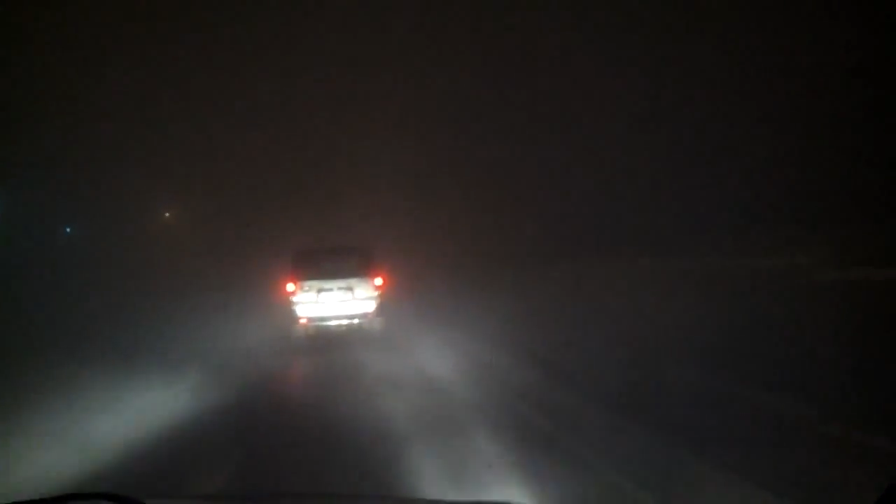car: (281, 235, 389, 342)
